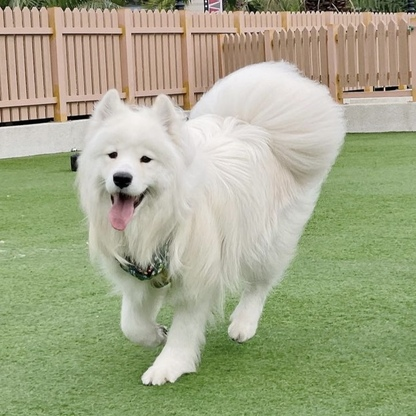samoyed: (71, 57, 352, 388)
